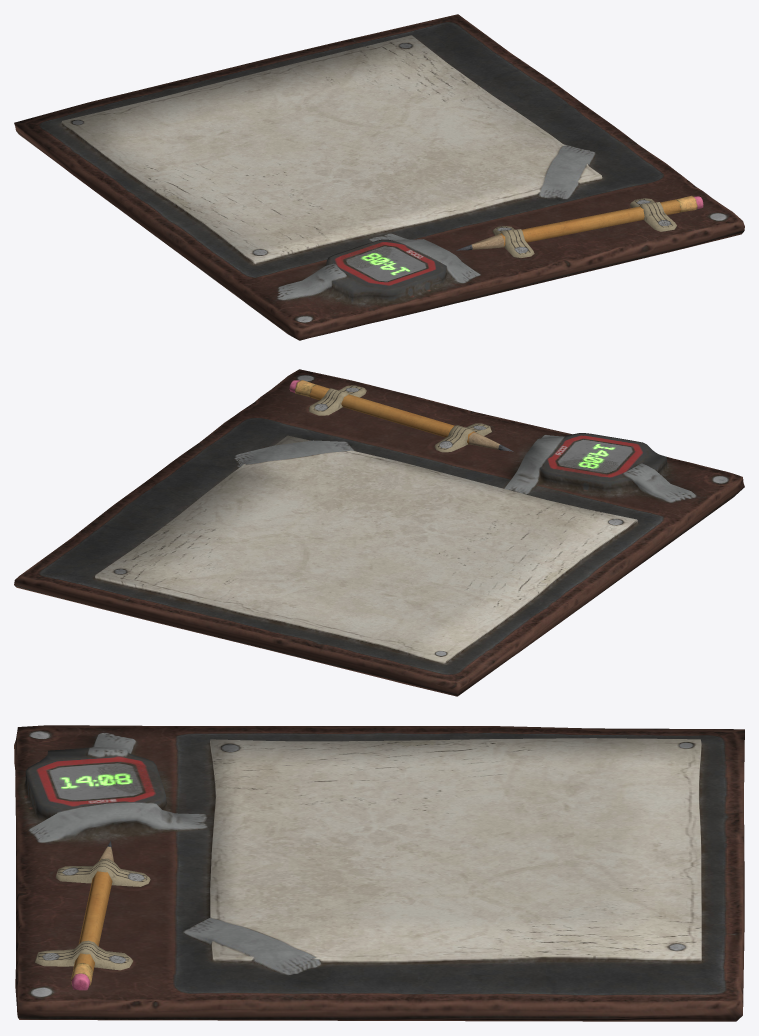
The picture shows the model from 3 angles, top to bottom: view 1: azimuth 30°, elevation 25°; view 2: azimuth 150°, elevation 25°; view 3: azimuth 270°, elevation 25°; orthographic projection. The views are drawn at different scales.
Visible parts, largest first — view 1: Object_2; view 2: Object_2; view 3: Object_2.
Boxes of the visible parts, x1,y1,x2,y2 form: Object_2: (14, 14, 744, 340); Object_2: (14, 369, 744, 696); Object_2: (14, 725, 744, 1021).
Bounding box in the file's own units: 25.41 × 1.65 × 28.09.
Materials: 1 (1 with a texture image).
